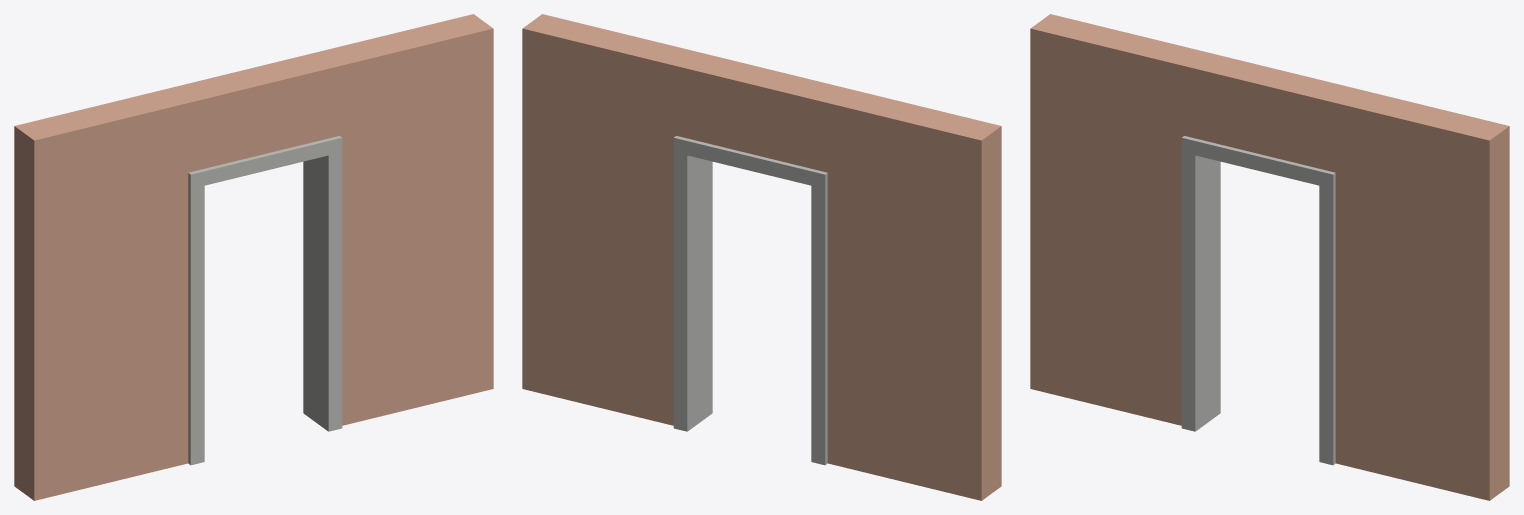
File: b-wall_door.glb
3 views of the same model, side by side, from view 1: azimuth 30°, elevation 25°; view 2: azimuth 150°, elevation 25°; view 3: azimuth 330°, elevation 25° (orthographic).
Visible parts, largest first — view 1: b-wall_door; view 2: b-wall_door; view 3: b-wall_door.
Boxes of the visible parts, x1,y1,x2,y2 form: b-wall_door: (14,14,493,500); b-wall_door: (522,14,1001,500); b-wall_door: (1030,14,1509,500).
Size of the model in its own units: 4 by 3 by 0.38.
